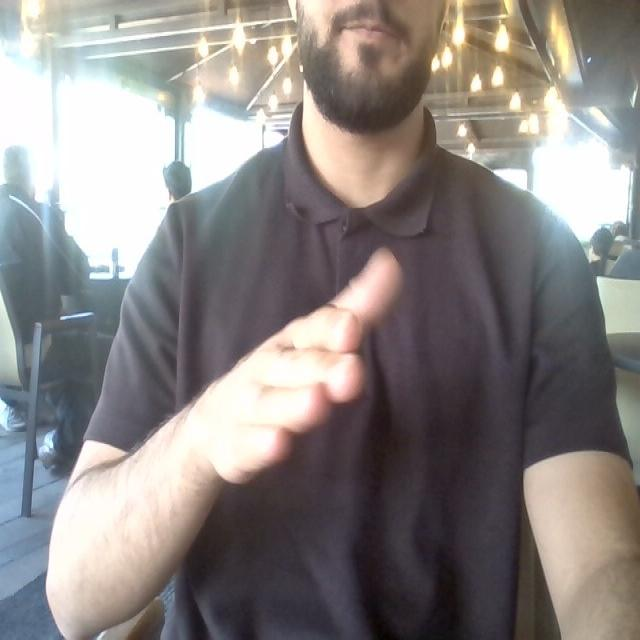Hand: (190, 250, 401, 482)
